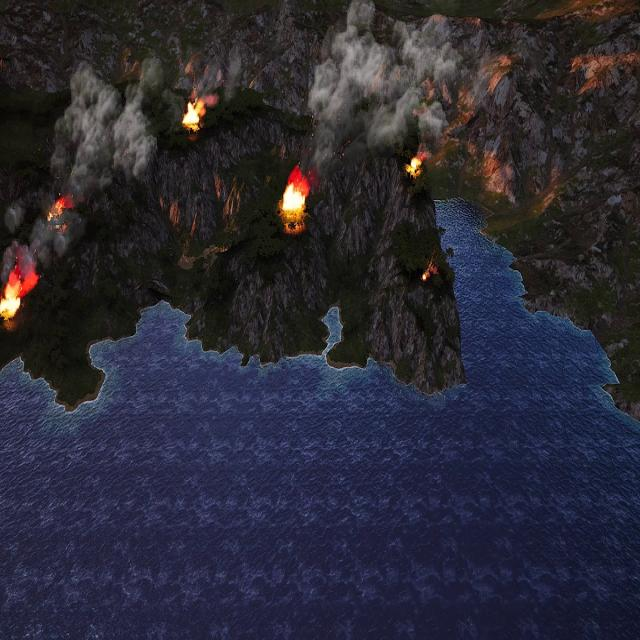fire: (0, 268, 36, 320), (280, 173, 309, 216), (49, 197, 73, 226), (182, 99, 205, 128), (422, 262, 437, 282), (409, 156, 424, 176)
smoke: (297, 4, 463, 179), (51, 58, 160, 198), (2, 218, 70, 280), (202, 44, 242, 102), (3, 202, 24, 232)
